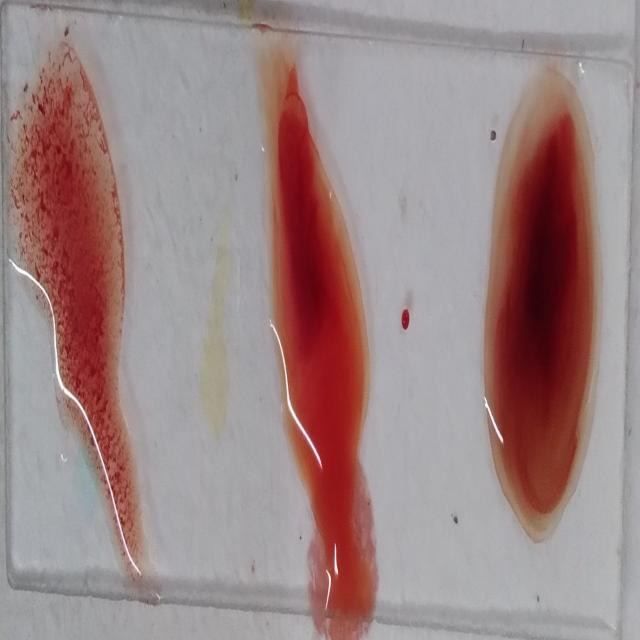D: (12, 34, 159, 583)
